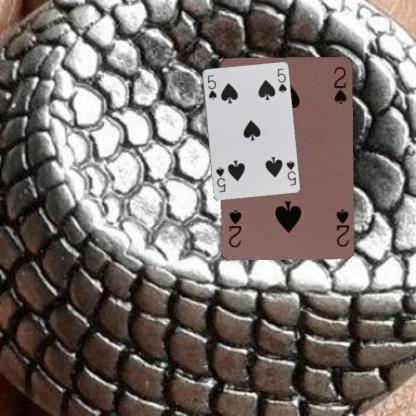2s: (333, 206, 350, 248)
5s: (204, 72, 218, 101), (284, 158, 297, 186)
